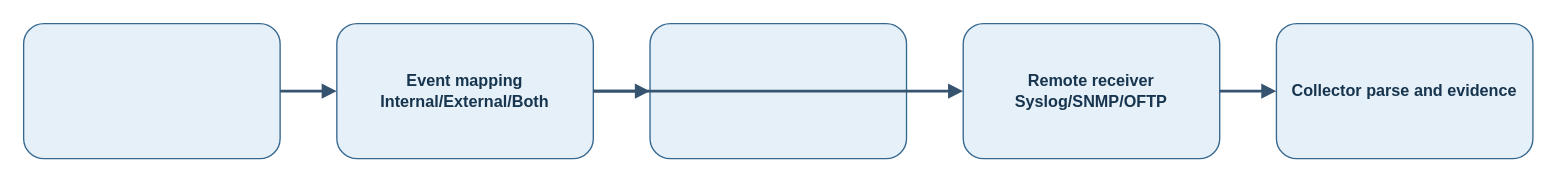
This 1557x182 diagram has some shape labels left out. Here are the shapes that lost their labels. From the top down, the centre of each, then its label:
At point (151, 90): "Event generated".
At point (778, 90): "FortiNAC-F internal event DB".
